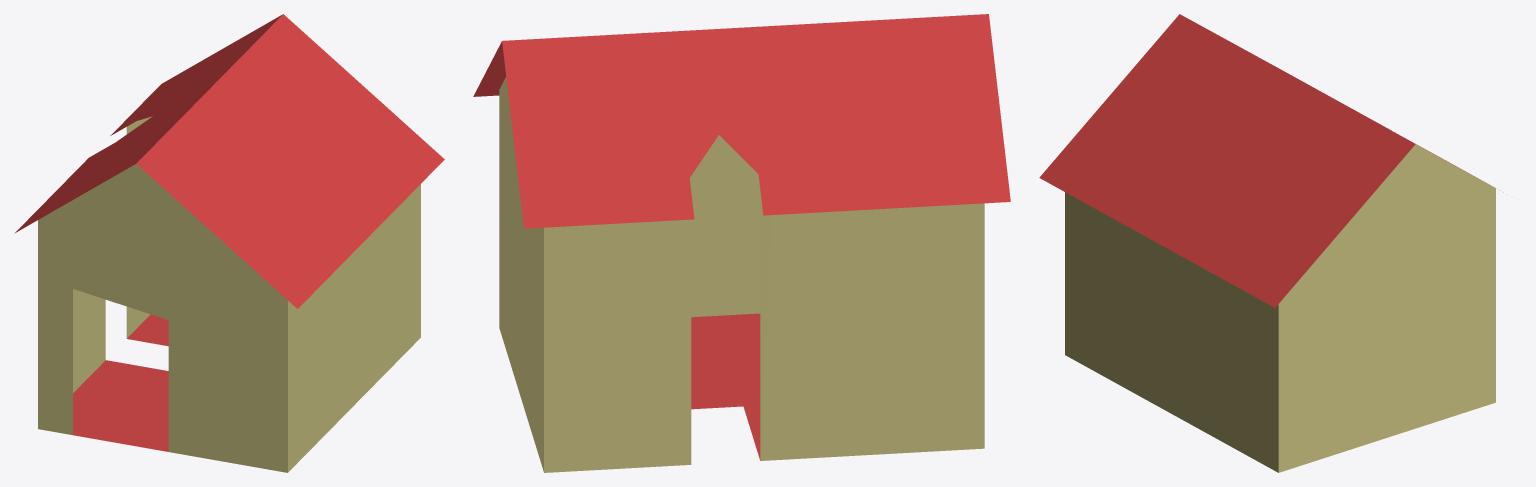
3 views of the same model, side by side, from view 1: azimuth 30°, elevation 25°; view 2: azimuth 150°, elevation 25°; view 3: azimuth 270°, elevation 25° (orthographic). The views are drawn at different scales.
Bounding box in the file's own units: 20.19 × 19.61 × 13.19.
